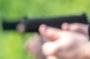gun: (1, 1, 90, 59)
